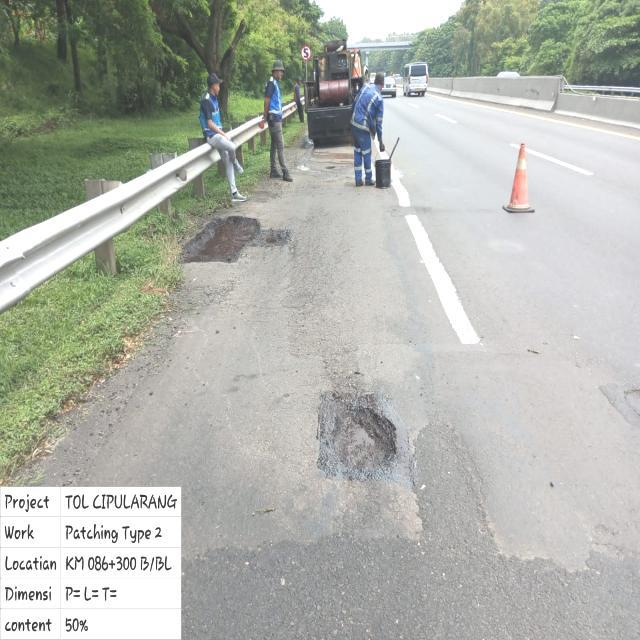Buraco: (313, 387, 401, 485), (174, 213, 294, 266), (323, 164, 338, 172)
